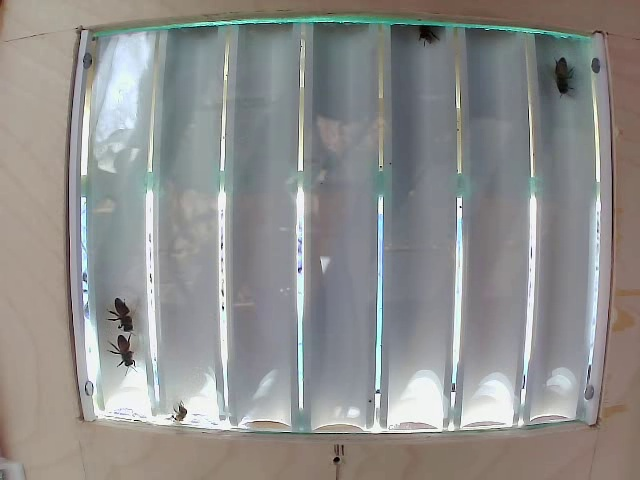bee: (96, 285, 145, 338), (100, 331, 149, 378), (550, 46, 579, 97)
